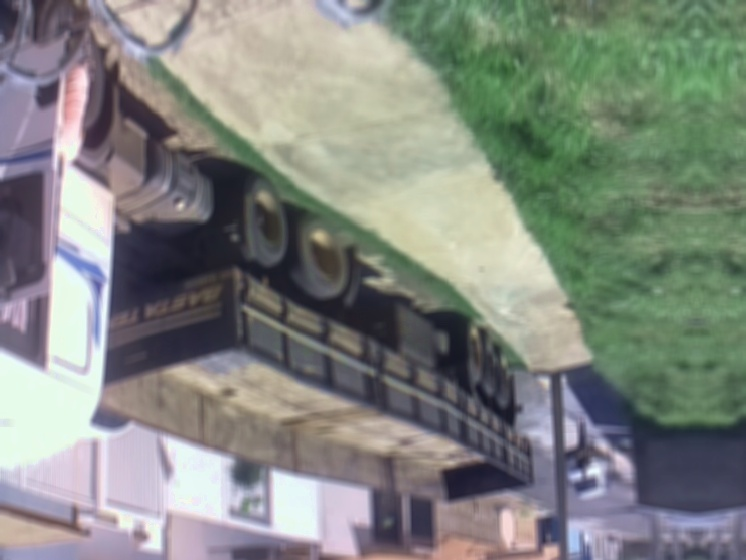person: (57, 0, 93, 186), (572, 415, 592, 485)
